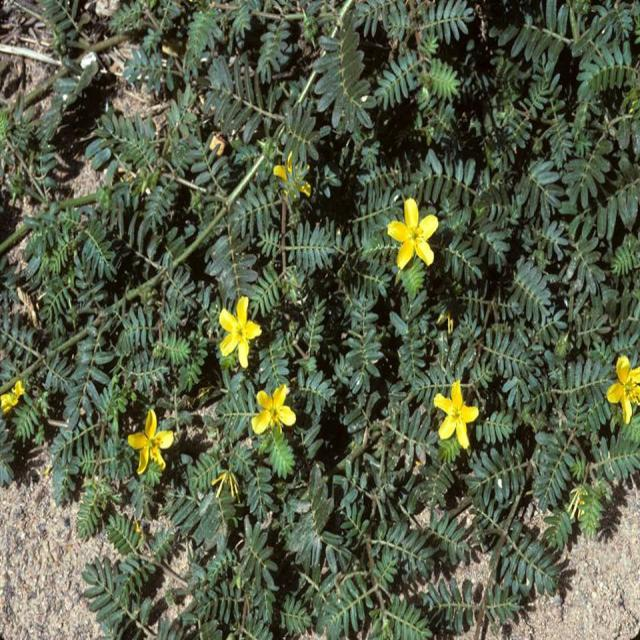Gokharu: (49, 53, 500, 417), (56, 331, 582, 640), (372, 1, 640, 454), (320, 162, 599, 409), (15, 322, 264, 543), (177, 254, 371, 475), (396, 304, 566, 514), (547, 312, 640, 498)
